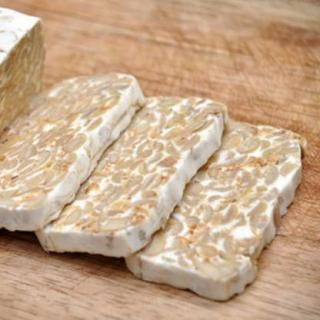Tempe: (1, 6, 310, 303)
